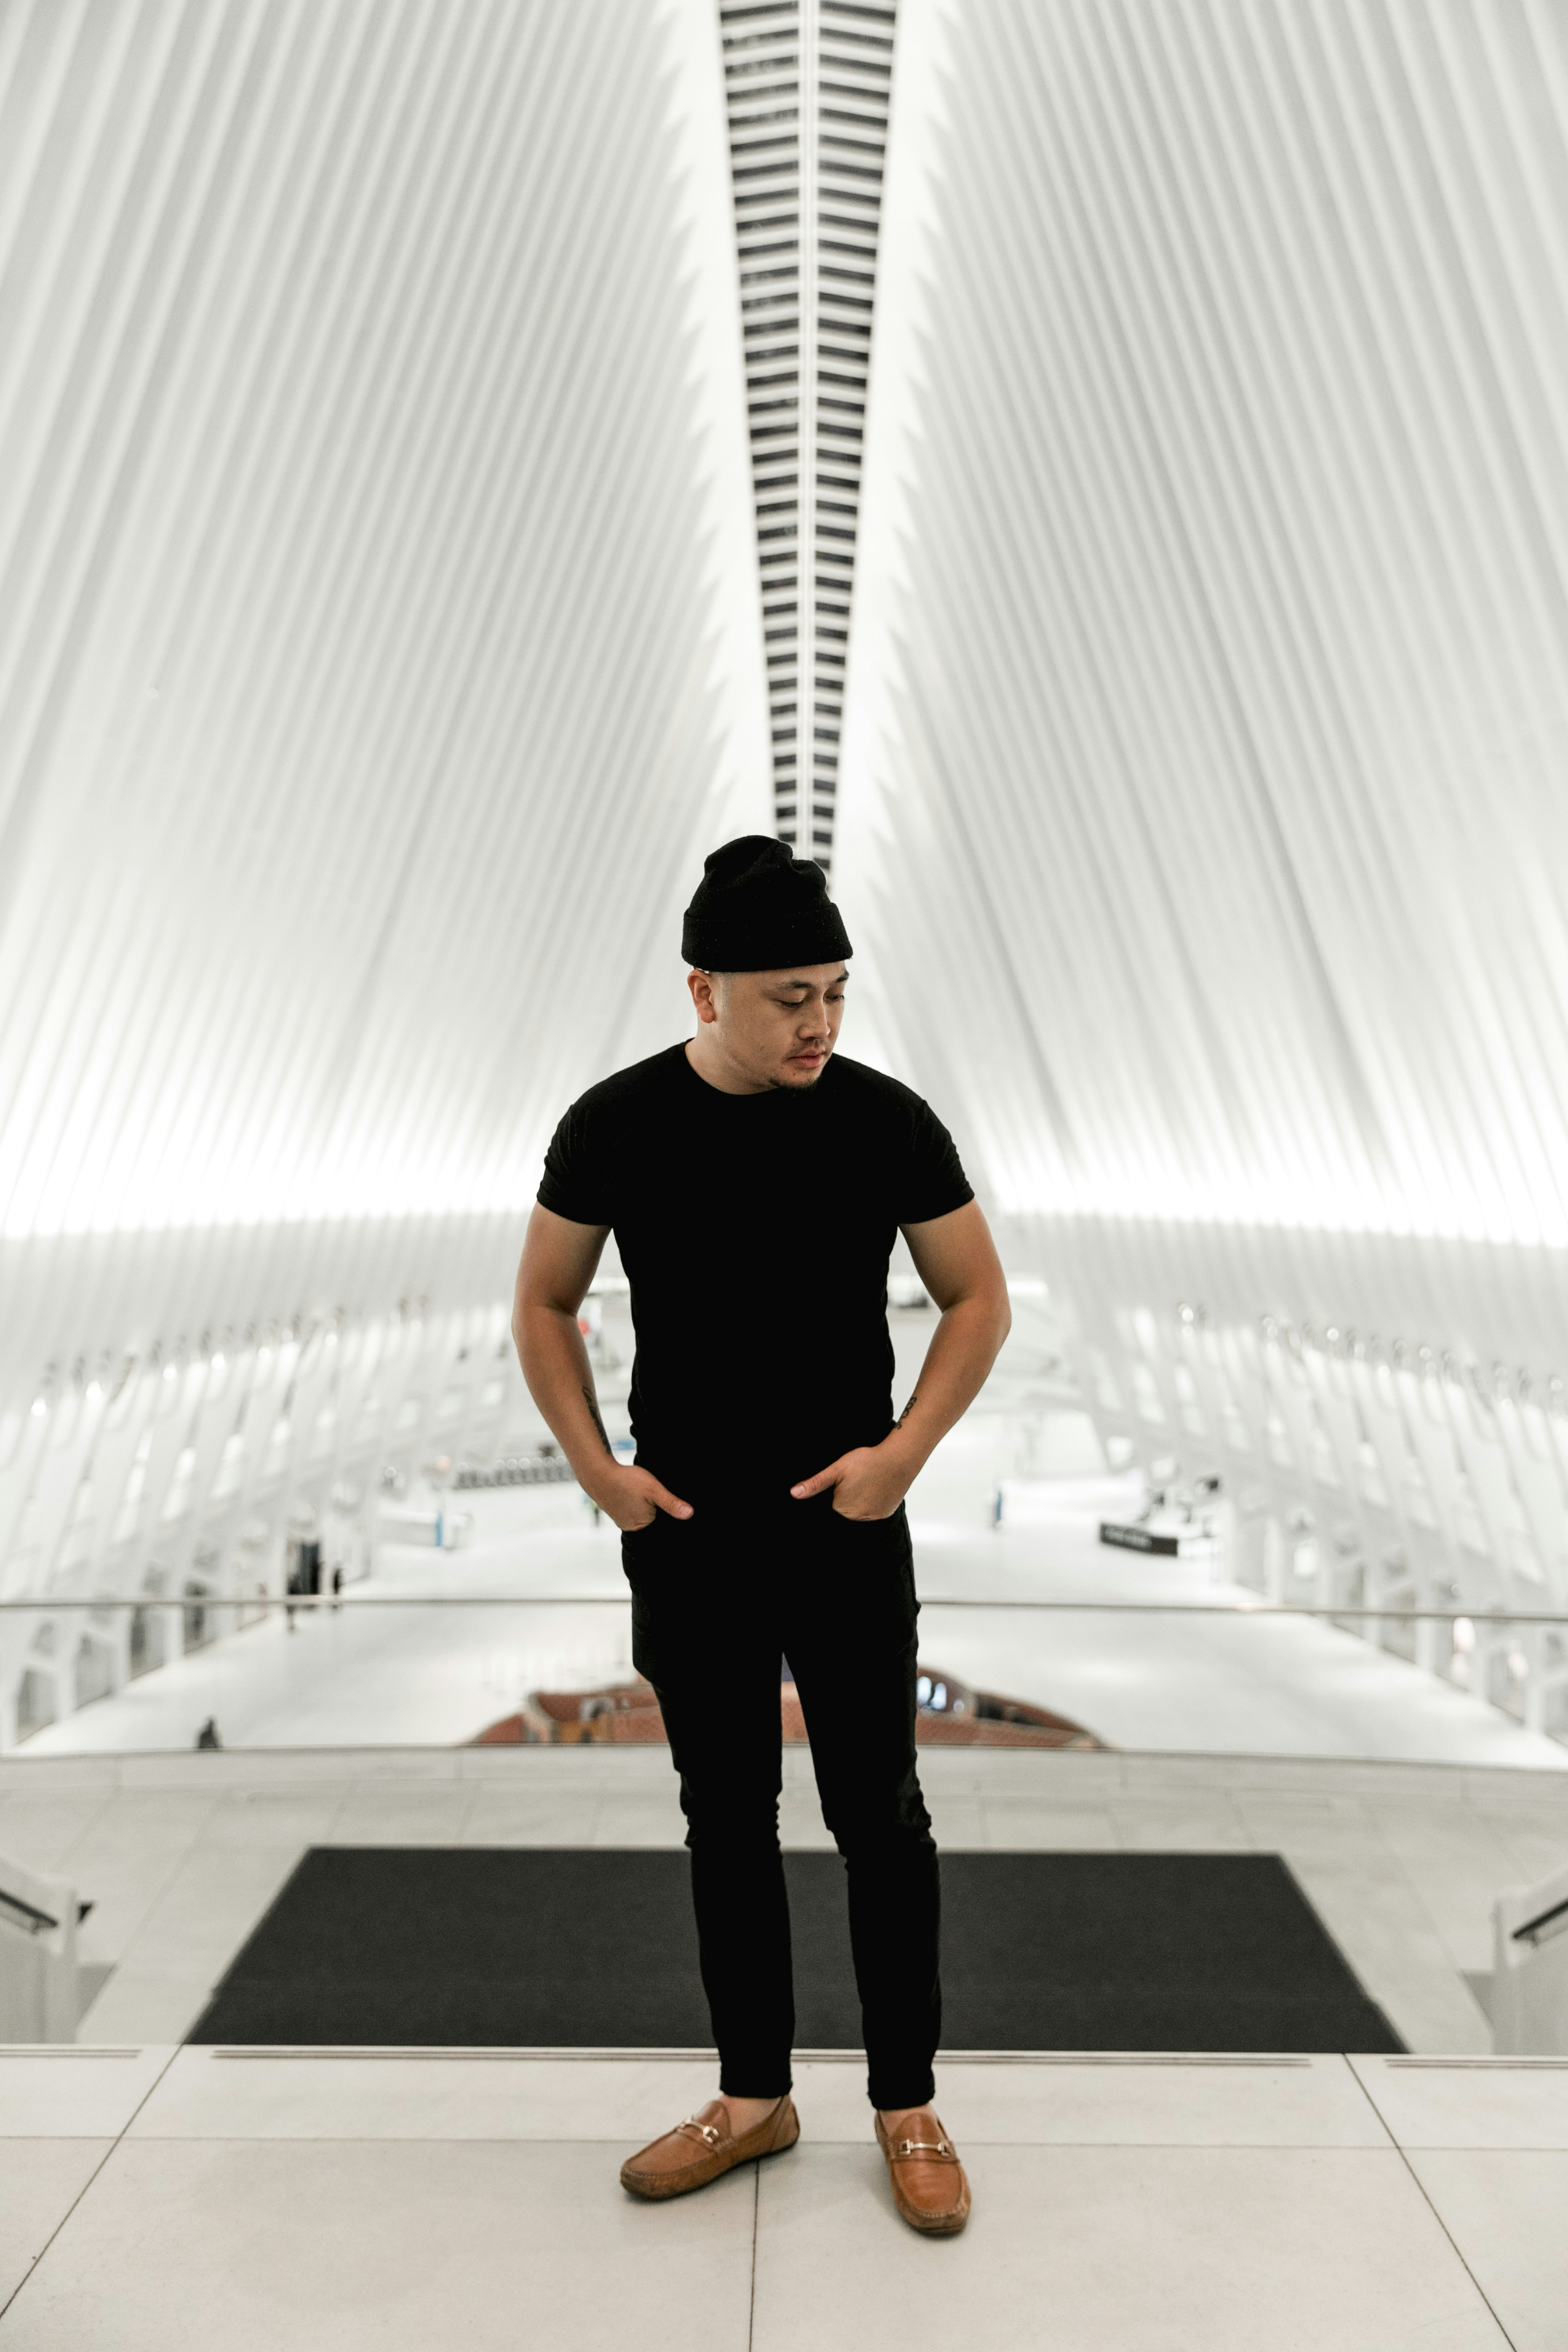Footwear: (850, 2058, 1015, 2256), (625, 2091, 836, 2228)
